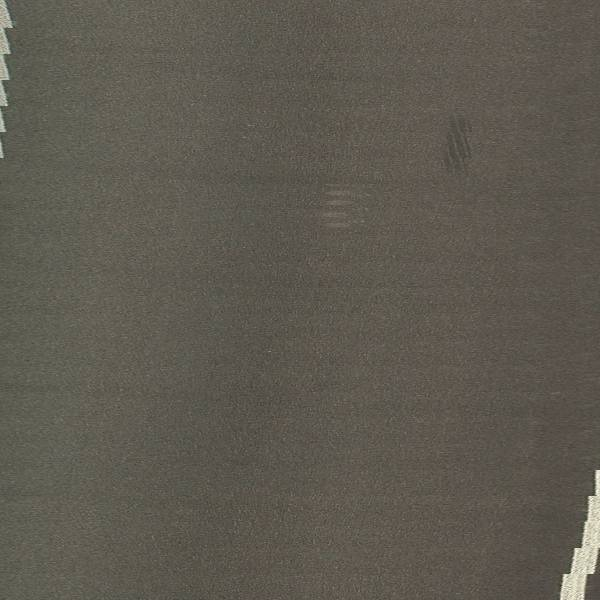road_damage: (317, 176, 361, 235)
